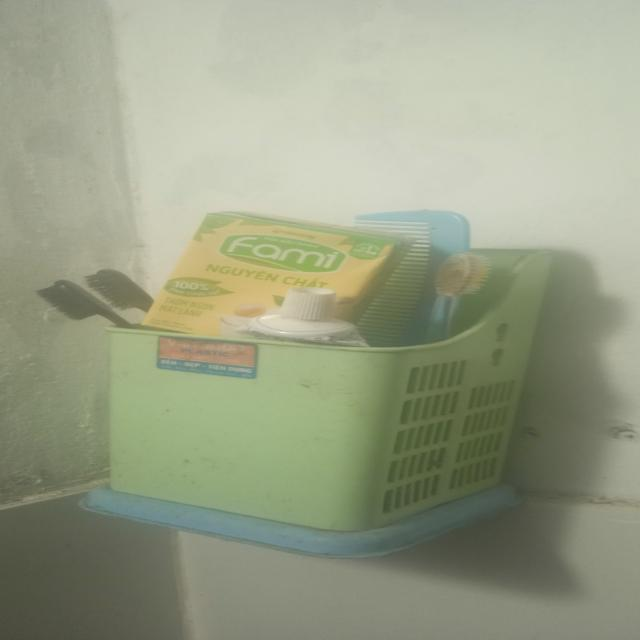Fami: (145, 216, 415, 333)
